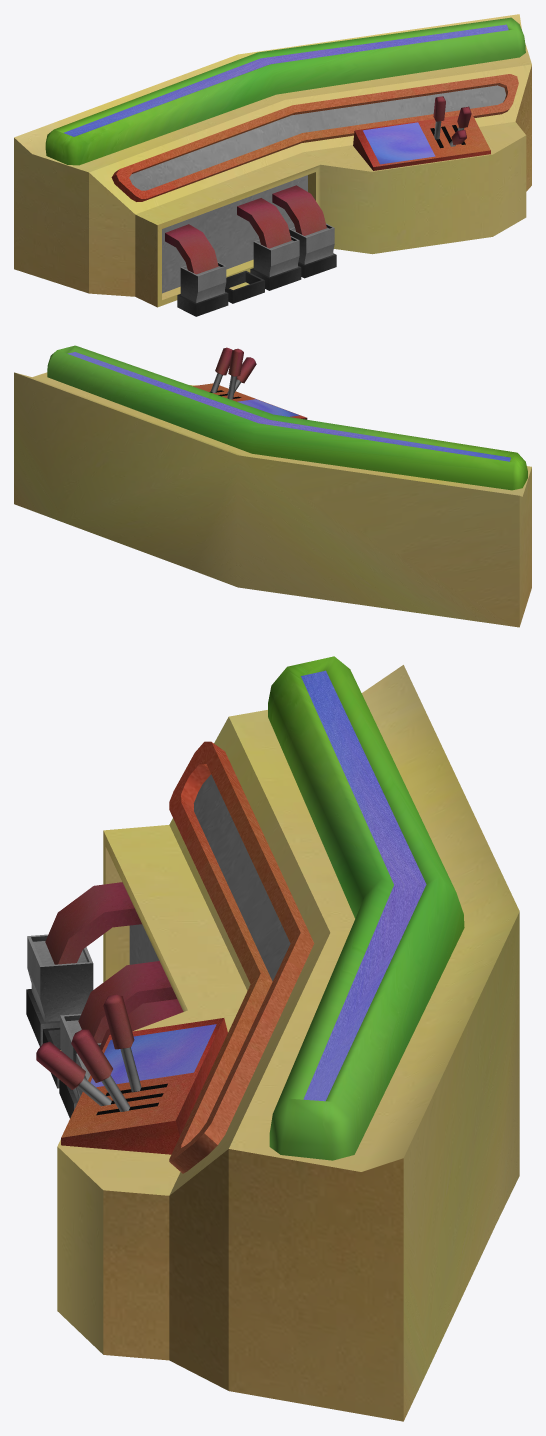
The model's file is pm-meme-factory-terminal.glb.
The picture shows the model from 3 angles, top to bottom: view 1: azimuth 30°, elevation 25°; view 2: azimuth 150°, elevation 25°; view 3: azimuth 270°, elevation 25°; orthographic projection. The views are drawn at different scales.
Visible parts, largest first — view 1: MemeFactory_Terminal_Art; view 2: MemeFactory_Terminal_Art; view 3: MemeFactory_Terminal_Art.
Part boxes in pixels (left/top/right/bottom): MemeFactory_Terminal_Art: left=14, top=14, right=531, bottom=316; MemeFactory_Terminal_Art: left=14, top=345, right=531, bottom=627; MemeFactory_Terminal_Art: left=26, top=656, right=519, bottom=1421.
Size of the model in its own units: 5.45 by 1.54 by 2.3.
Materials: 7 (7 with a texture image).
